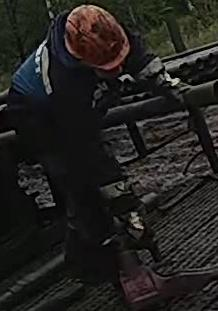gloves: (108, 194, 158, 253), (153, 67, 198, 114)
helmet: (63, 3, 130, 71)
vest: (8, 34, 138, 157)
